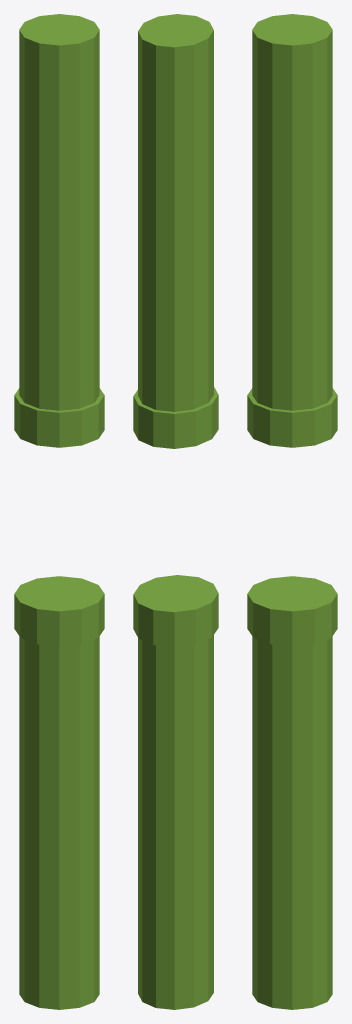
File: pipes.fbx
3 views of the same model, side by side, from view 1: azimuth 90°, elevation 25°; view 2: azimuth 150°, elevation 25°; view 3: azimuth 270°, elevation 25° (orthographic).
Visible parts, largest first — view 1: pipe-top, pipe-bottom; view 2: pipe-top, pipe-bottom; view 3: pipe-top, pipe-bottom.
Part boxes in pixels (bbox=[...]): pipe-top: bbox=[14, 14, 104, 447]; pipe-bottom: bbox=[14, 576, 104, 1009]; pipe-top: bbox=[133, 14, 218, 448]; pipe-bottom: bbox=[133, 575, 218, 1009]; pipe-top: bbox=[247, 14, 337, 447]; pipe-bottom: bbox=[247, 576, 337, 1009].
Bounding box in the file's own units: 101 × 1285 × 109.
